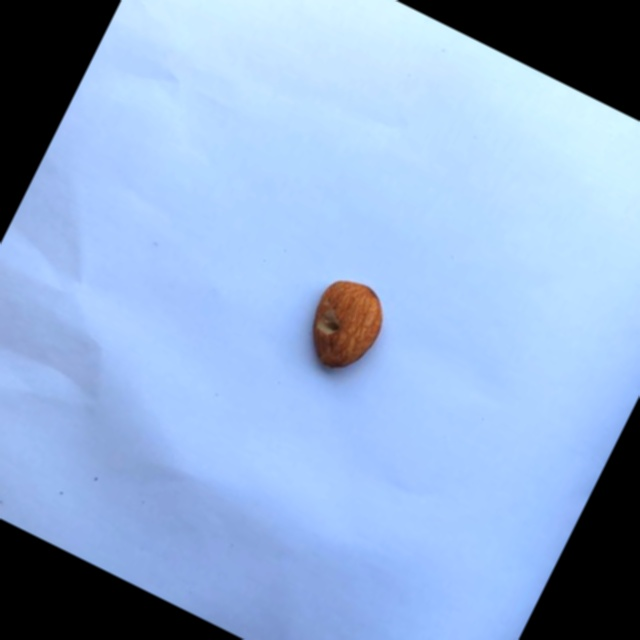grade3: (288, 264, 399, 386)
